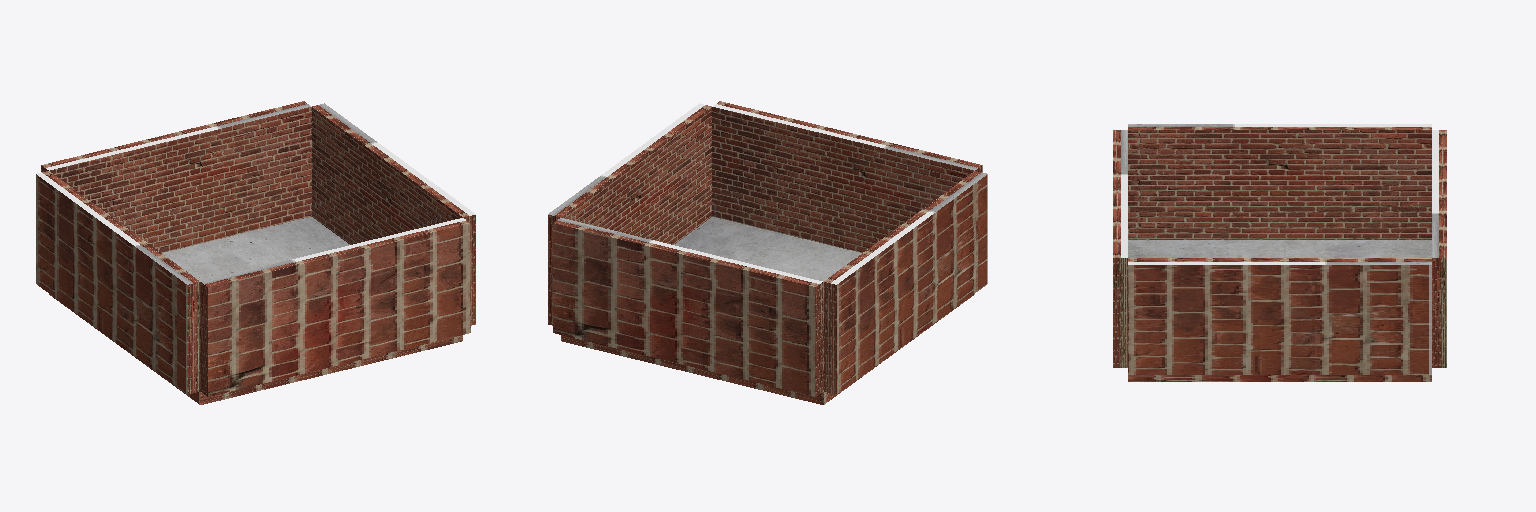
3 renders of one model, left to right at view 1: azimuth 30°, elevation 25°; view 2: azimuth 150°, elevation 25°; view 3: azimuth 270°, elevation 25°, orthographic.
Visible parts, largest first — view 1: Cube.003, Cube.001, Cube.004, Cube.002, Cube; view 2: Cube.001, Cube.003, Cube.004, Cube.002, Cube; view 3: Cube.002, Cube.004, Cube, Cube.003, Cube.001.
Boxes of the visible parts, x1,y1,x2,y2 form: Cube.003: [200, 218, 470, 396]; Cube.001: [41, 101, 311, 252]; Cube.004: [36, 171, 199, 394]; Cube.002: [312, 103, 475, 325]; Cube: [49, 217, 462, 404]; Cube.001: [553, 218, 823, 396]; Cube.003: [712, 101, 982, 252]; Cube.004: [824, 171, 987, 394]; Cube.002: [548, 103, 711, 325]; Cube: [561, 217, 974, 404]; Cube.002: [1128, 258, 1431, 374]; Cube.004: [1128, 124, 1431, 239]; Cube: [1128, 240, 1431, 381]; Cube.003: [1113, 130, 1127, 367]; Cube.001: [1432, 130, 1446, 367].
Bounding box in the file's own units: 11 × 4.5 × 11.
Materials: 3 (1 with a texture image).